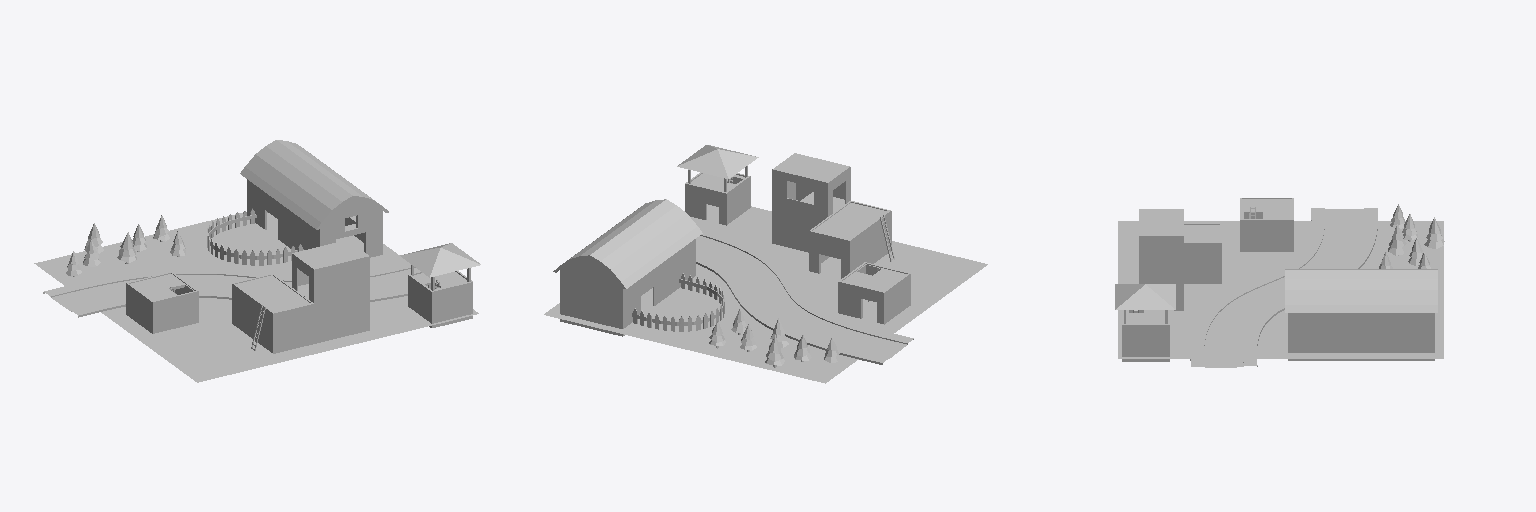
File: full_starting_map.obj
3 views of the same model, side by side, from view 1: azimuth 30°, elevation 25°; view 2: azimuth 150°, elevation 25°; view 3: azimuth 270°, elevation 25° (orthographic).
Visible parts, largest first — view 1: Plane, Barn, BigBuilding1, Road, BigBuilding2, Building2, Building1, Barn_Fence; view 2: Plane, Barn, Road, BigBuilding1, BigBuilding2, Building2, Building1, Barn_Fence; view 3: Barn, Plane, Road, Building2, BigBuilding1, Building1, BigBuilding2.
Boxes of the visible parts, x1,y1,x2,y2 form: Plane: [34, 213, 478, 382]; Barn: [240, 140, 388, 257]; BigBuilding1: [292, 240, 369, 343]; Road: [43, 262, 427, 317]; BigBuilding2: [232, 273, 313, 353]; Building2: [400, 243, 480, 327]; Building1: [126, 272, 198, 333]; Barn_Fence: [207, 208, 303, 265]; Plane: [544, 204, 987, 383]; Barn: [553, 199, 702, 336]; Road: [696, 227, 913, 364]; BigBuilding1: [772, 153, 850, 252]; BigBuilding2: [809, 201, 891, 278]; Building2: [677, 145, 758, 225]; Building1: [838, 262, 910, 324]; Barn_Fence: [632, 273, 724, 331]; Barn: [1285, 269, 1437, 360]; Plane: [1118, 221, 1443, 358]; Road: [1190, 208, 1377, 367]; Building2: [1115, 284, 1175, 361]; BigBuilding1: [1139, 209, 1183, 310]; Building1: [1240, 198, 1293, 251]; BigBuilding2: [1184, 223, 1221, 283].
Size of the model in its own units: 128 by 30.6 by 112.